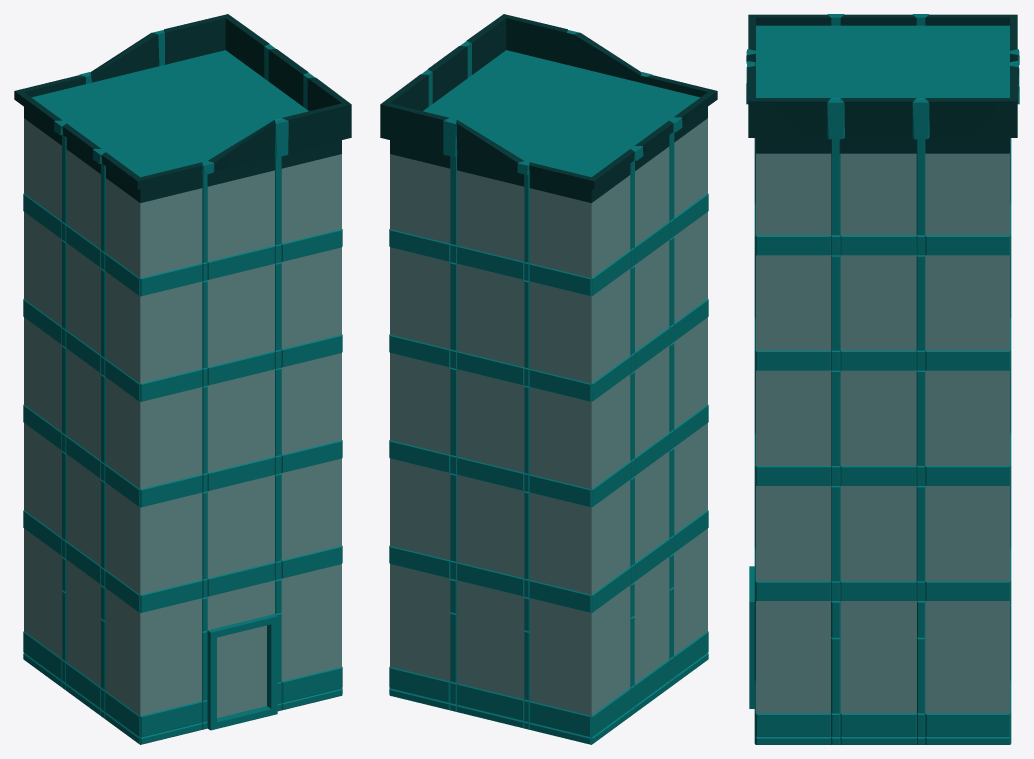
The model's file is smallBuilding_M_v2_athena.FBX.
3 views of the same model, side by side, from view 1: azimuth 30°, elevation 25°; view 2: azimuth 150°, elevation 25°; view 3: azimuth 270°, elevation 25° (orthographic). The views are drawn at different scales.
Visible parts, largest first — view 1: top003; view 2: top003; view 3: top003.
Boxes of the visible parts, x1,y1,x2,y2 form: top003: [14, 14, 351, 744]; top003: [380, 14, 717, 744]; top003: [746, 14, 1019, 744].
Bounding box in the file's own units: 1076 × 2807 × 1076.
